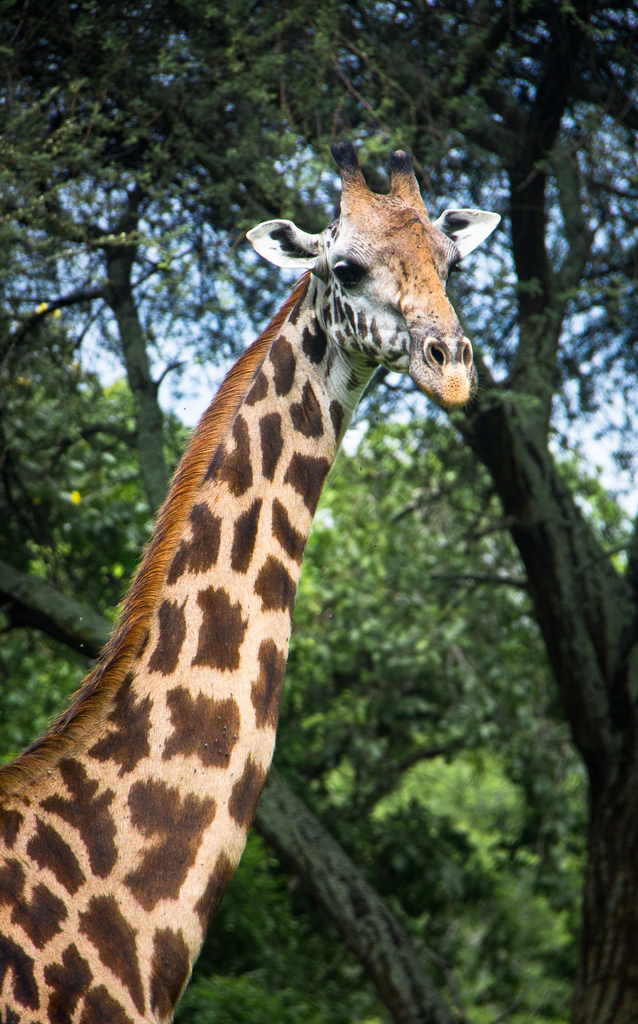giraffe: (62, 102, 519, 951)
